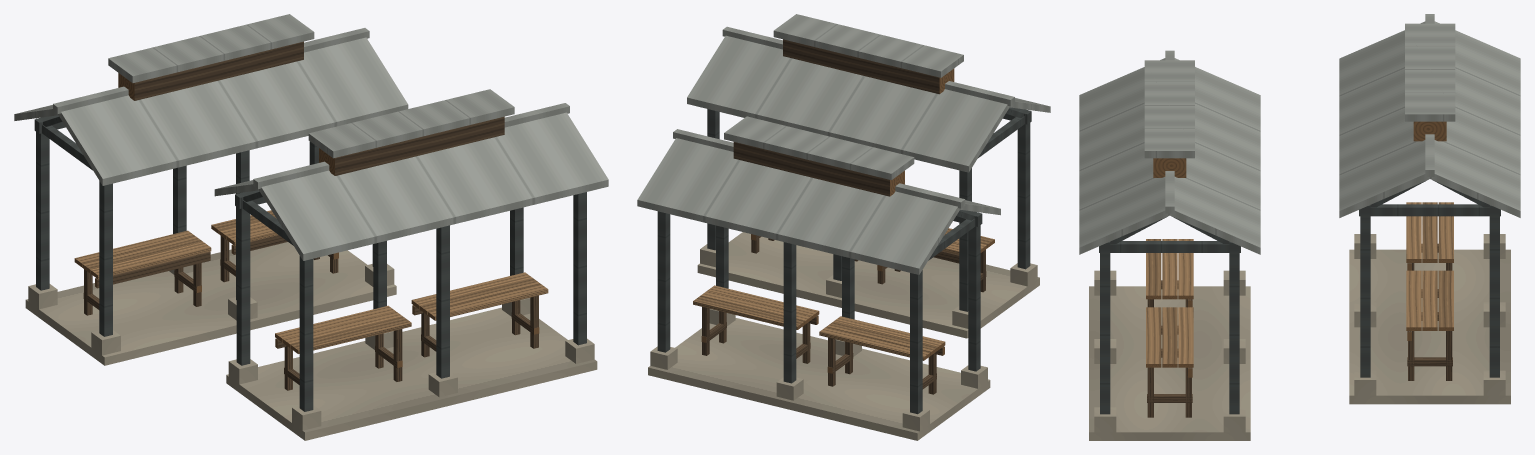
File: road-town.glb
The picture shows the model from 3 angles, left to right: view 1: azimuth 30°, elevation 25°; view 2: azimuth 150°, elevation 25°; view 3: azimuth 270°, elevation 25°; orthographic projection. The views are drawn at different scales.
Visible parts, largest first — view 1: road-town; view 2: road-town; view 3: road-town.
Boxes of the visible parts, x1=… form: road-town: x1=14, y1=14, x2=608, y2=440; road-town: x1=637, y1=14, x2=1050, y2=440; road-town: x1=1079, y1=14, x2=1520, y2=440.
Size of the model in its own units: 3.94 by 2.5 by 3.81.
Materials: 1 (1 with a texture image).
